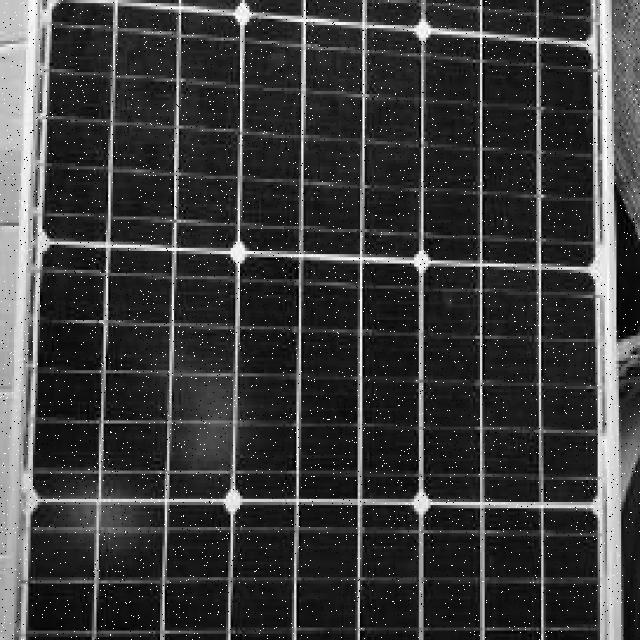electrical damage: (139, 335, 285, 518), (35, 473, 155, 575)
